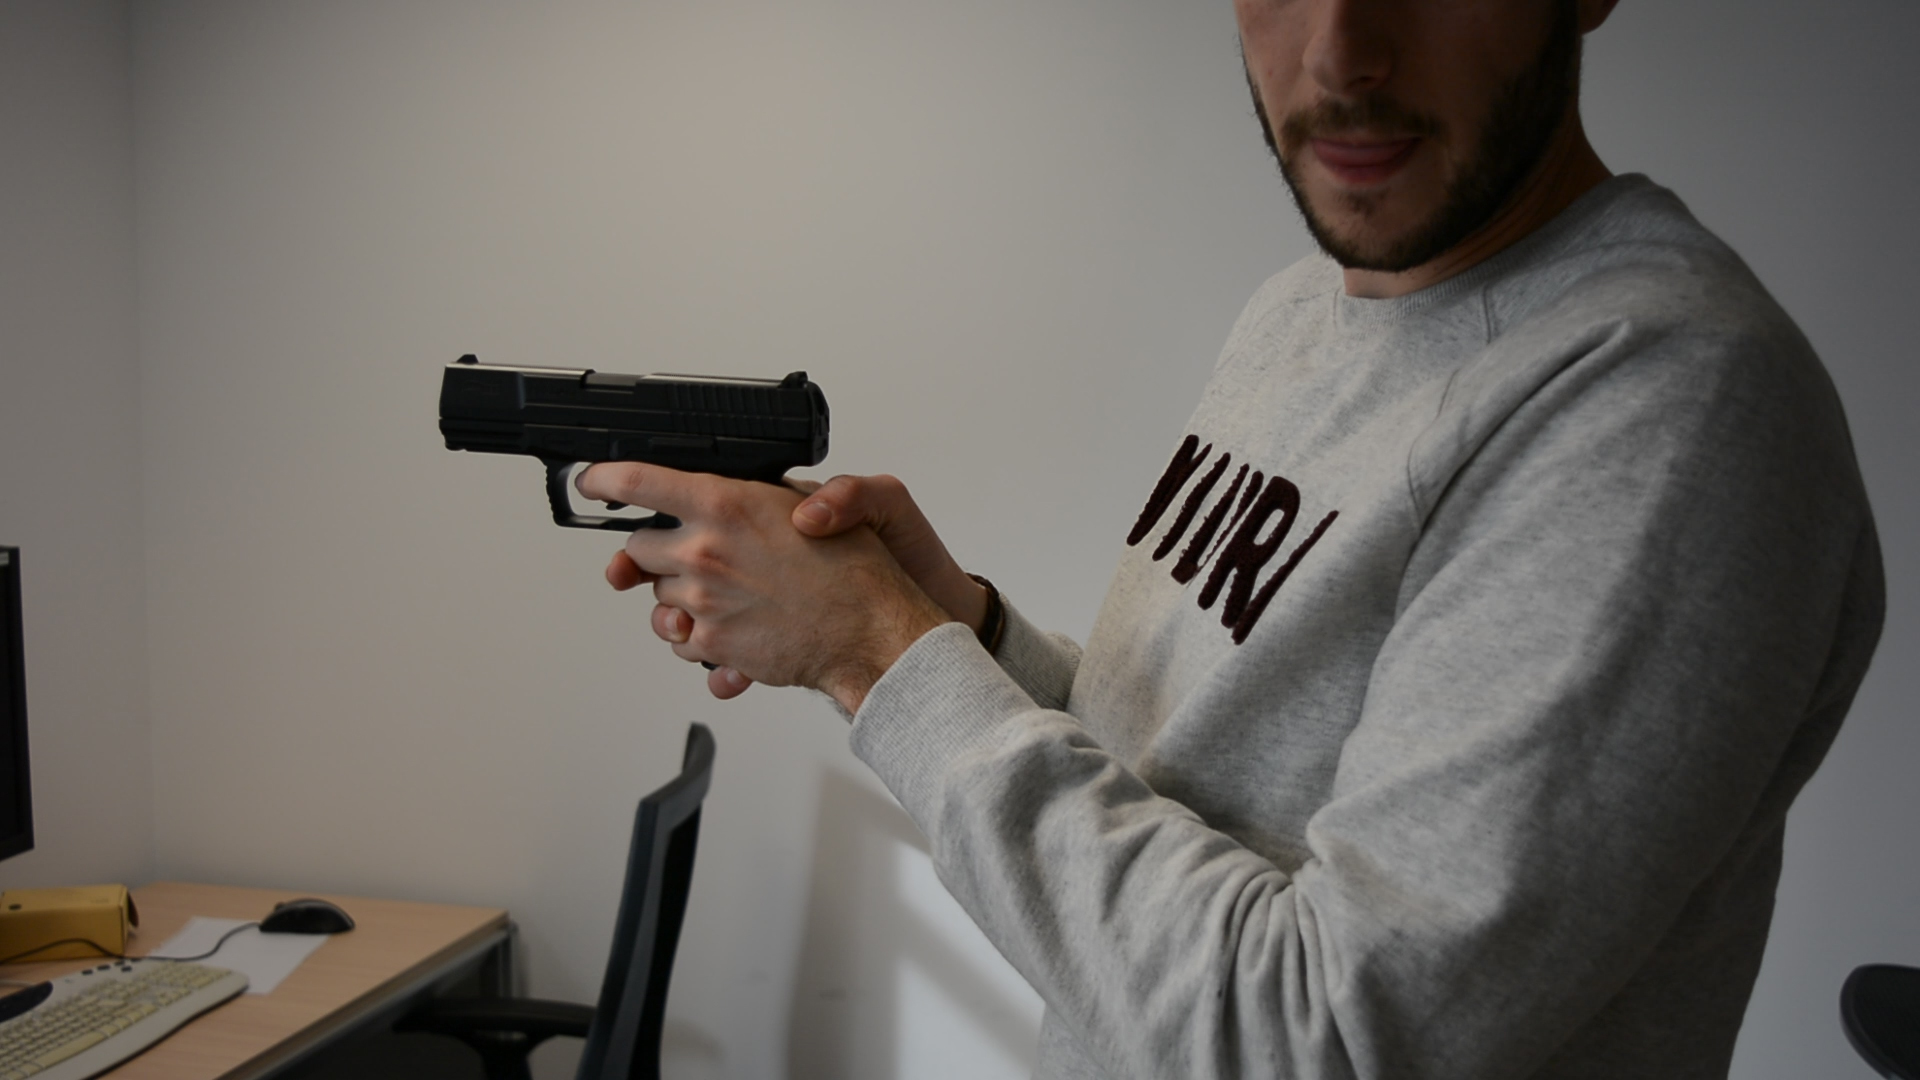pistol: (435, 349, 833, 537)
